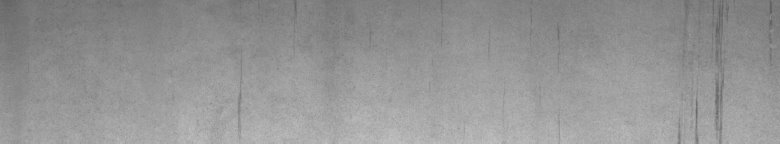ka: (678, 4, 773, 136)
